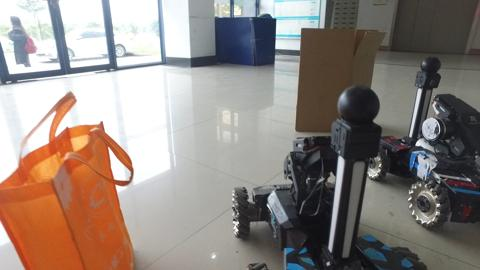chariot: (222, 82, 433, 270), (379, 54, 479, 228)
